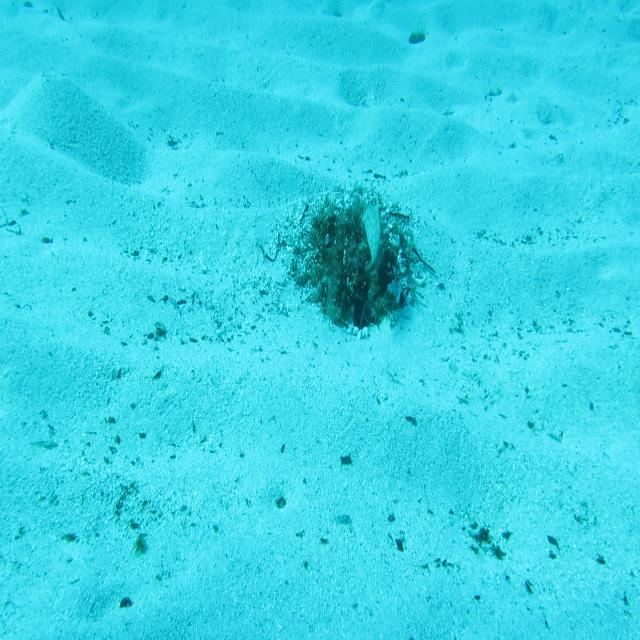ROLL: (358, 198, 386, 292)
nest: (287, 190, 431, 340)
